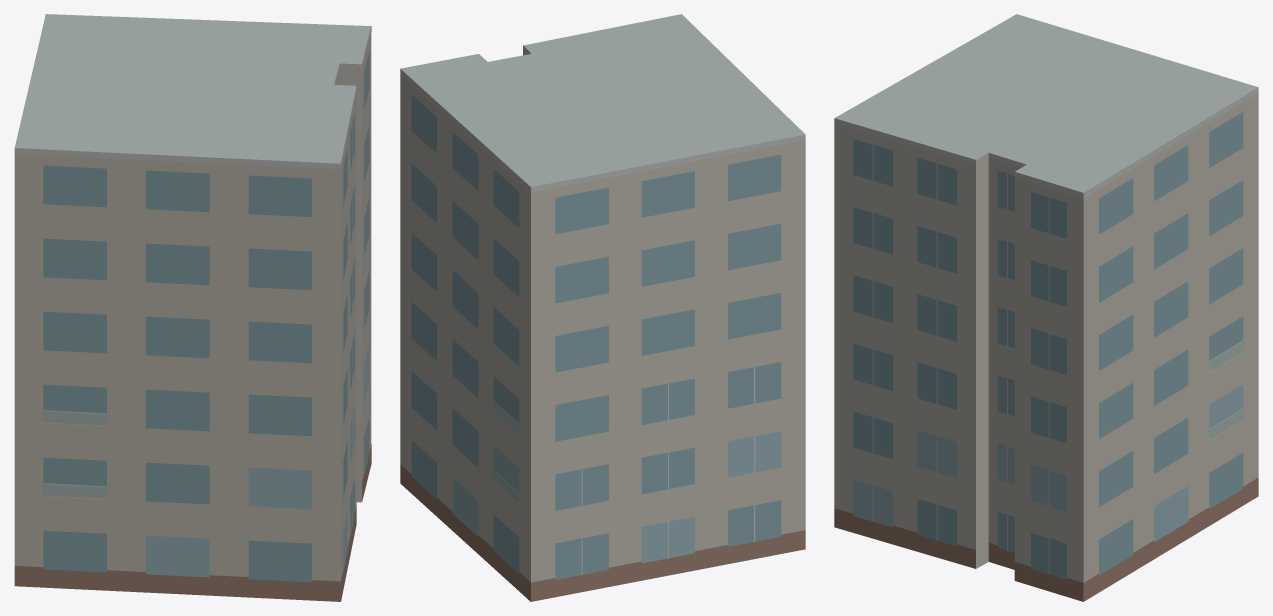
The model's file is survey-upis-32539939.glb.
3 renders of one model, left to right at view 1: azimuth 30°, elevation 25°; view 2: azimuth 150°, elevation 25°; view 3: azimuth 270°, elevation 25°, orthographic. The views are drawn at different scales.
Visible parts, largest first — view 1: survey-upis-32539939.tmp; view 2: survey-upis-32539939.tmp; view 3: survey-upis-32539939.tmp.
Boxes of the visible parts, x1=… form: survey-upis-32539939.tmp: x1=14, y1=14, x2=371, y2=601; survey-upis-32539939.tmp: x1=400, y1=14, x2=805, y2=601; survey-upis-32539939.tmp: x1=834, y1=14, x2=1258, y2=601.
Bounding box in the file's own units: 17.16 × 18.3 × 17.21.
